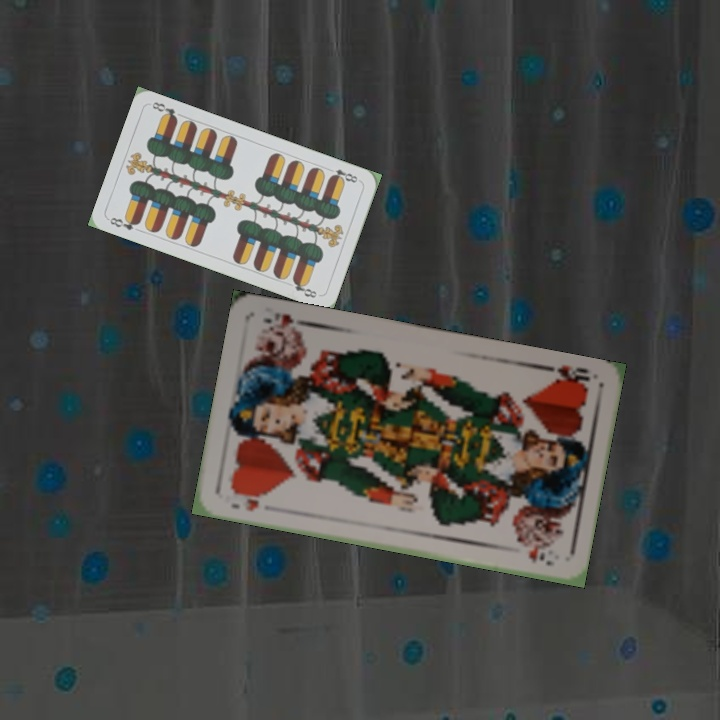E8: (324, 164, 363, 185), (106, 213, 143, 233)
HO: (548, 360, 592, 391), (225, 485, 265, 514)
